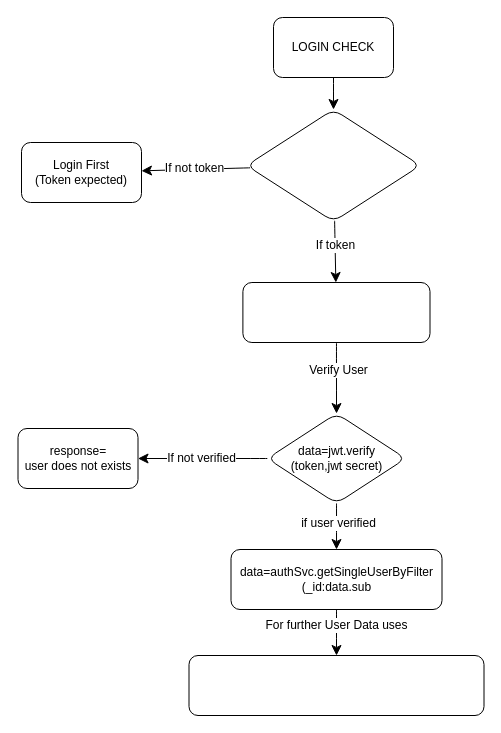
This 501x733 diagram has some shape labels left out. Here are the shapes that lost their labels. From the top down, the centre of each, then its label:
(333,165): token= req.headers [authorization]
(336,312): token=token.split(" ").pop()
(336,685): req.loggedInUser=authSvc.mapLoggedInUser(user) next()
